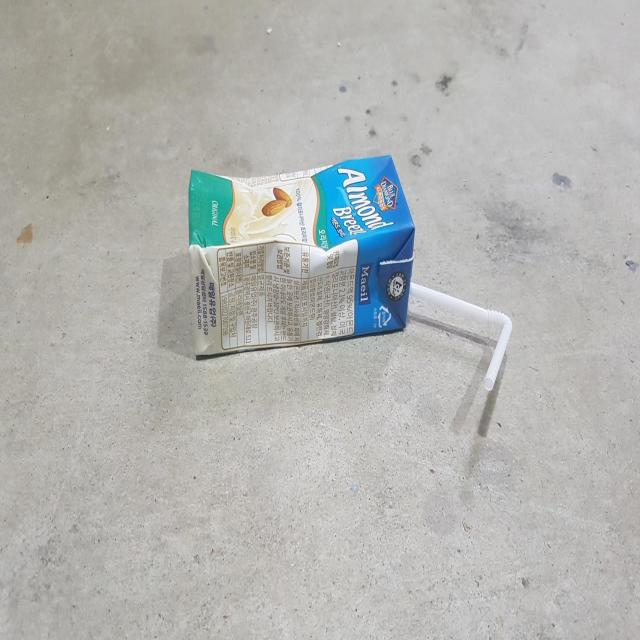paperpack: (188, 154, 415, 356)
